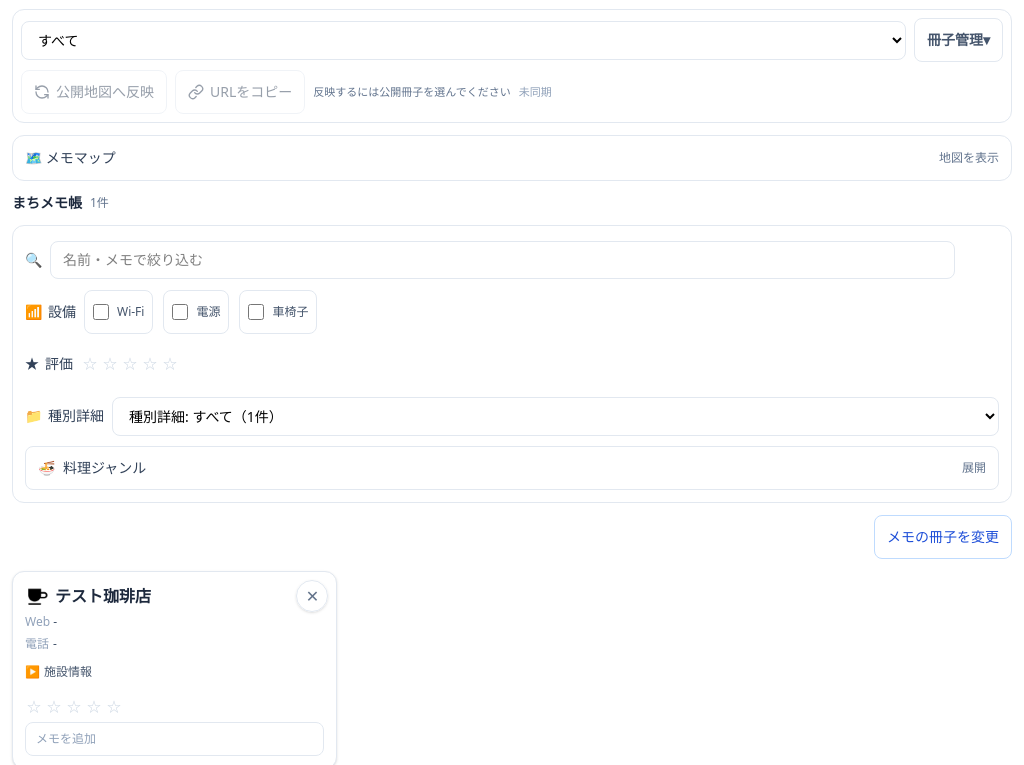
MemochoSection: メモ欄 › メモ表示をタップすると textarea が出て、編集後にフォーカスを外すと localStorage に保存される
Note: タップで編集モード（複数行 textarea）に切替・textarea は自動フォーカス
Click the element named "テスト珈琲店のメモ": (175, 739) 25,722 -> 324,756
(page scrolled)
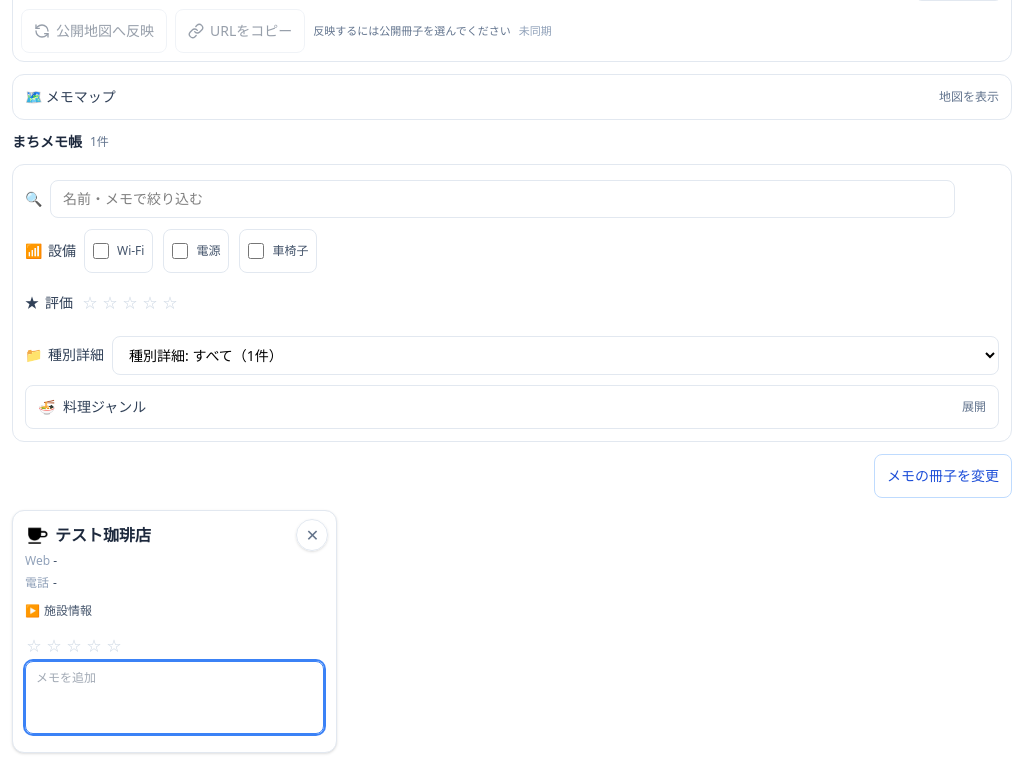
In the text box named "テスト珈琲店のメモ": (175, 697) 25,661 -> 324,734, type "Wi-Fiがあります"
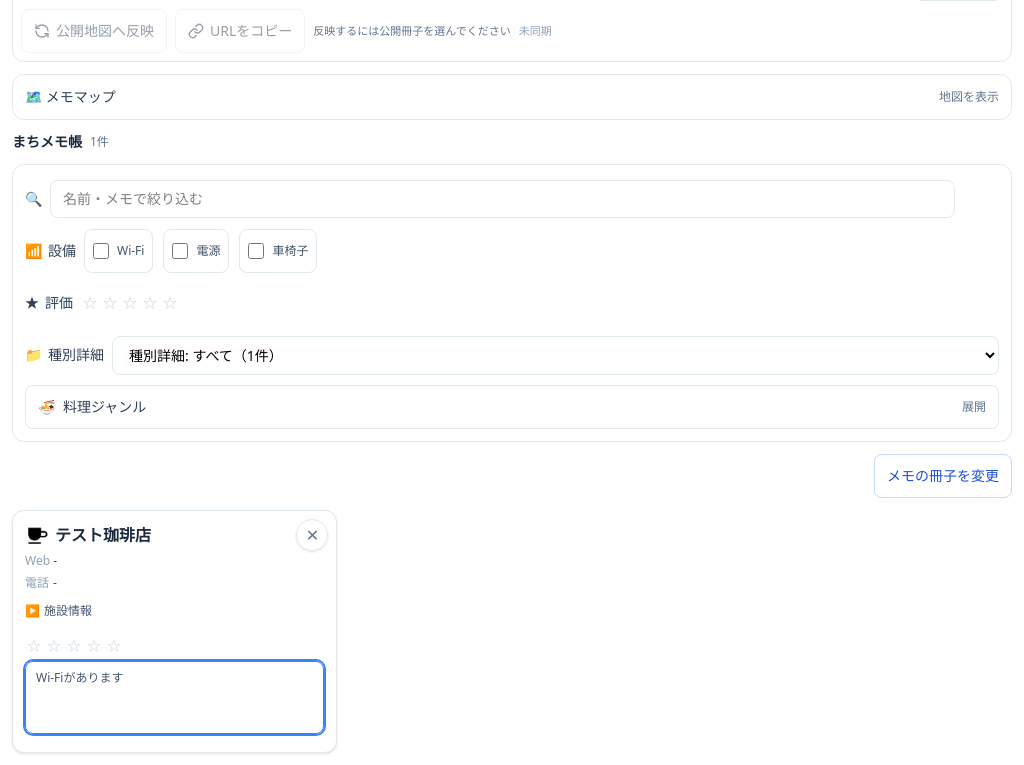
Leave the text box named "テスト珈琲店のメモ", box 25,661 -> 324,734
(page scrolled)
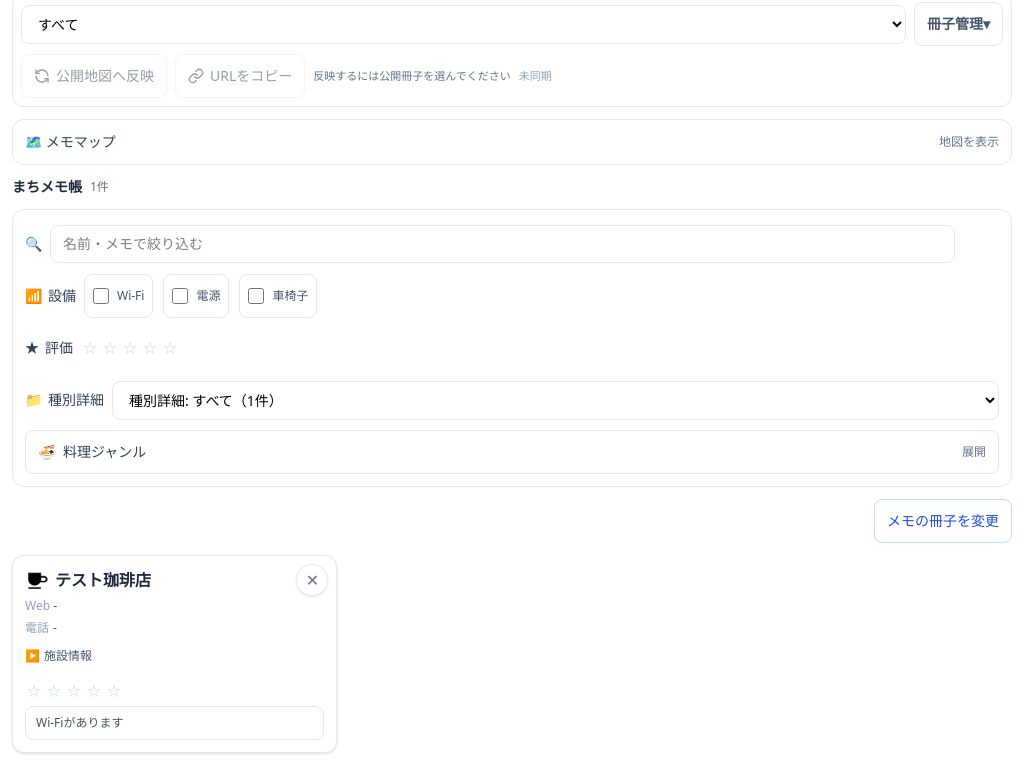
Check: the text "Wi-Fiがあります" is shown, box 25,706 -> 324,740
Check: the text named "テスト珈琲店のメモ" reads "Wi-Fiがあります", box 36,714 -> 124,731
